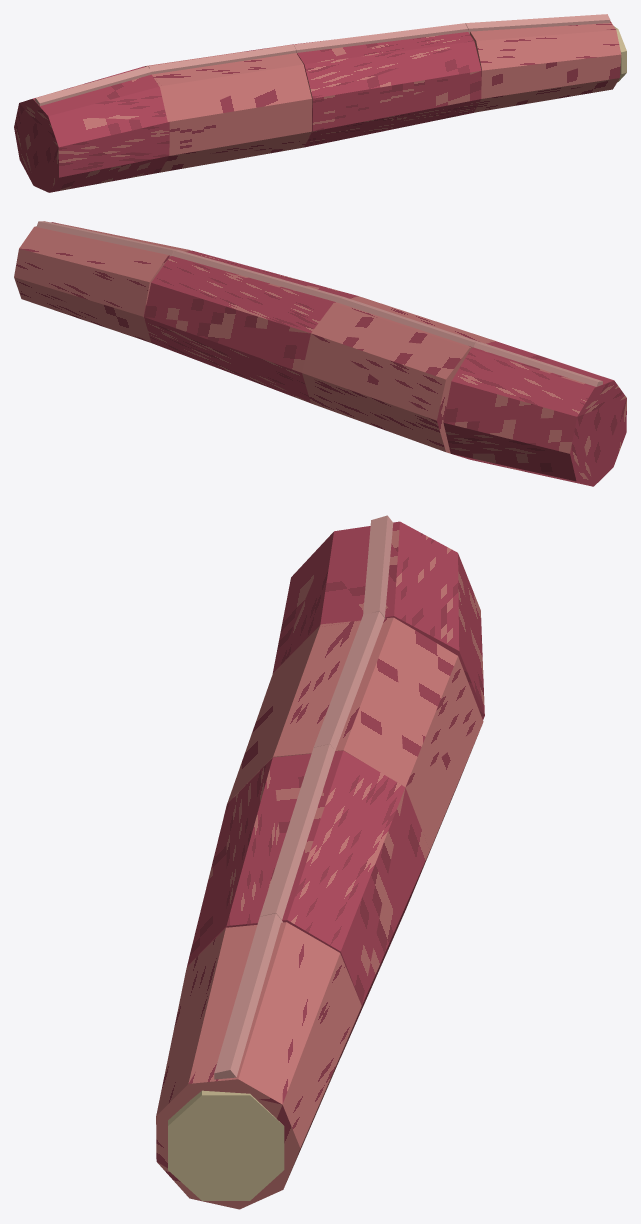
The model's file is rhubarb.glb.
3 views of the same model, one above another, from view 1: azimuth 30°, elevation 25°; view 2: azimuth 150°, elevation 25°; view 3: azimuth 270°, elevation 25° (orthographic). The views are drawn at different scales.
Visible parts, largest first — view 1: block_pink red rhubarb stalk 2, block_pink red rhubarb stalk 1, block_pink red rhubarb stalk 0, block_pink red rhubarb stalk 3, block_pale pink longitudinal rib 2, block_pale pink longitudinal rib 1, block_pale pink longitudinal rib 3, block_pale pink longitudinal rib 0, block_pale cut stem face; view 2: block_pink red rhubarb stalk 0, block_pink red rhubarb stalk 2, block_pink red rhubarb stalk 1, block_pink red rhubarb stalk 3, block_pale pink longitudinal rib 2, block_pale pink longitudinal rib 1, block_pale pink longitudinal rib 3, block_pale pink longitudinal rib 0; view 3: block_pink red rhubarb stalk 2, block_pink red rhubarb stalk 3, block_pink red rhubarb stalk 1, block_pink red rhubarb stalk 0, block_pale cut stem face, block_pale pink longitudinal rib 2, block_pale pink longitudinal rib 3, block_pale pink longitudinal rib 1, block_pale pink longitudinal rib 0.
Boxes of the visible parts, box(x1,y1,x2,y2) form: block_pink red rhubarb stalk 2: box(291, 32, 481, 147); block_pink red rhubarb stalk 1: box(145, 44, 311, 172); block_pink red rhubarb stalk 0: box(14, 66, 169, 192); block_pink red rhubarb stalk 3: box(470, 21, 621, 112); block_pale pink longitudinal rib 2: box(294, 23, 467, 53); block_pale pink longitudinal rib 1: box(148, 44, 296, 74); block_pale pink longitudinal rib 3: box(465, 14, 610, 33); block_pale pink longitudinal rib 0: box(34, 66, 151, 105); block_pale cut stem face: box(614, 26, 626, 82); block_pink red rhubarb stalk 0: box(443, 341, 626, 486); block_pink red rhubarb stalk 2: box(144, 250, 358, 403); block_pink red rhubarb stalk 1: box(302, 296, 495, 453); block_pink red rhubarb stalk 3: box(14, 222, 190, 342); block_pale pink longitudinal rib 2: box(172, 250, 343, 301); block_pale pink longitudinal rib 1: box(336, 297, 479, 347); block_pale pink longitudinal rib 3: box(36, 221, 178, 256); block_pale pink longitudinal rib 0: box(473, 342, 602, 386); block_pink red rhubarb stalk 2: box(187, 750, 429, 1055); block_pink red rhubarb stalk 3: box(156, 922, 361, 1209); block_pink red rhubarb stalk 1: box(227, 617, 483, 905); block_pink red rhubarb stalk 0: box(272, 521, 484, 719); block_pale cut stem face: box(168, 1090, 284, 1200); block_pale pink longitudinal rib 2: box(260, 744, 334, 919); block_pale pink longitudinal rib 3: box(214, 913, 282, 1079); block_pale pink longitudinal rib 1: box(313, 611, 384, 750); block_pale pink longitudinal rib 0: box(363, 515, 393, 618).
Size of the model in its own units: 0.19 by 0.034 by 0.0503.
Materials: 1 (1 with a texture image).
